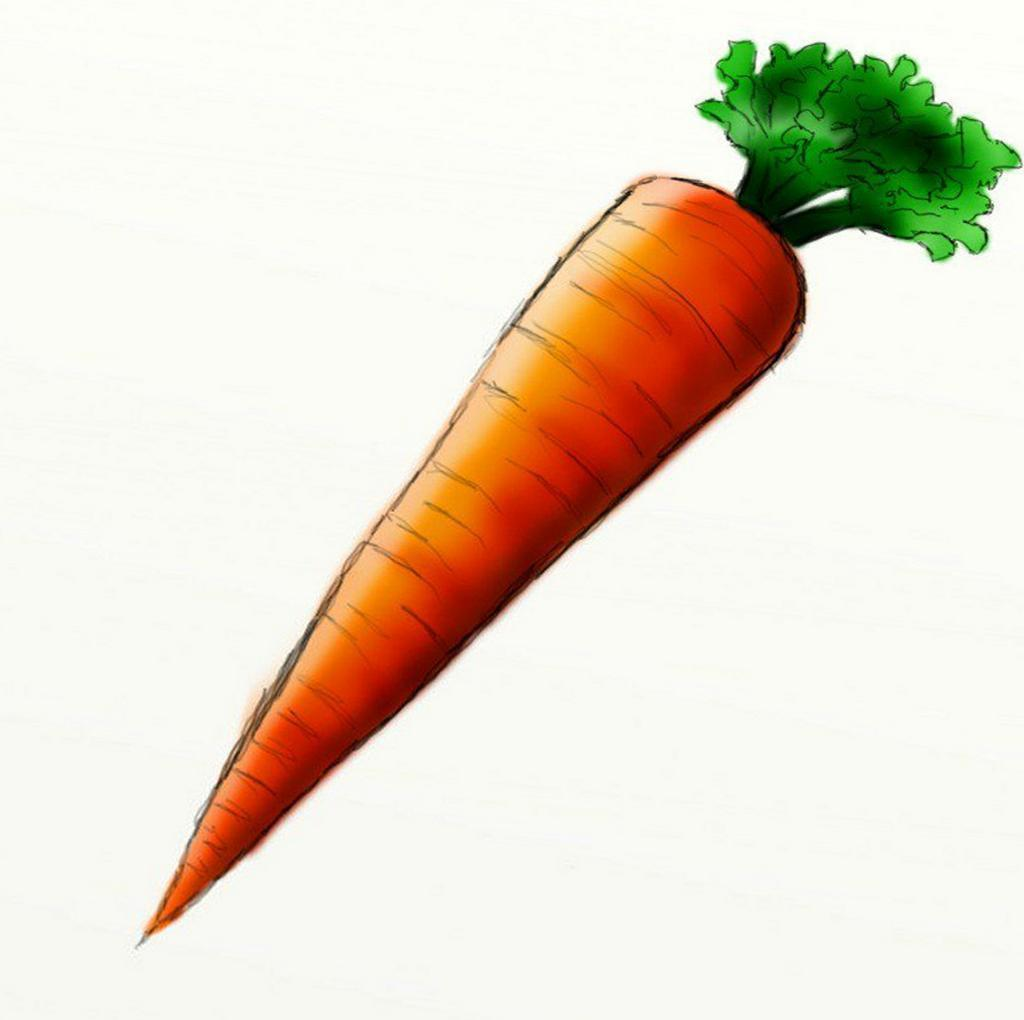carrot: (109, 42, 1005, 942)
